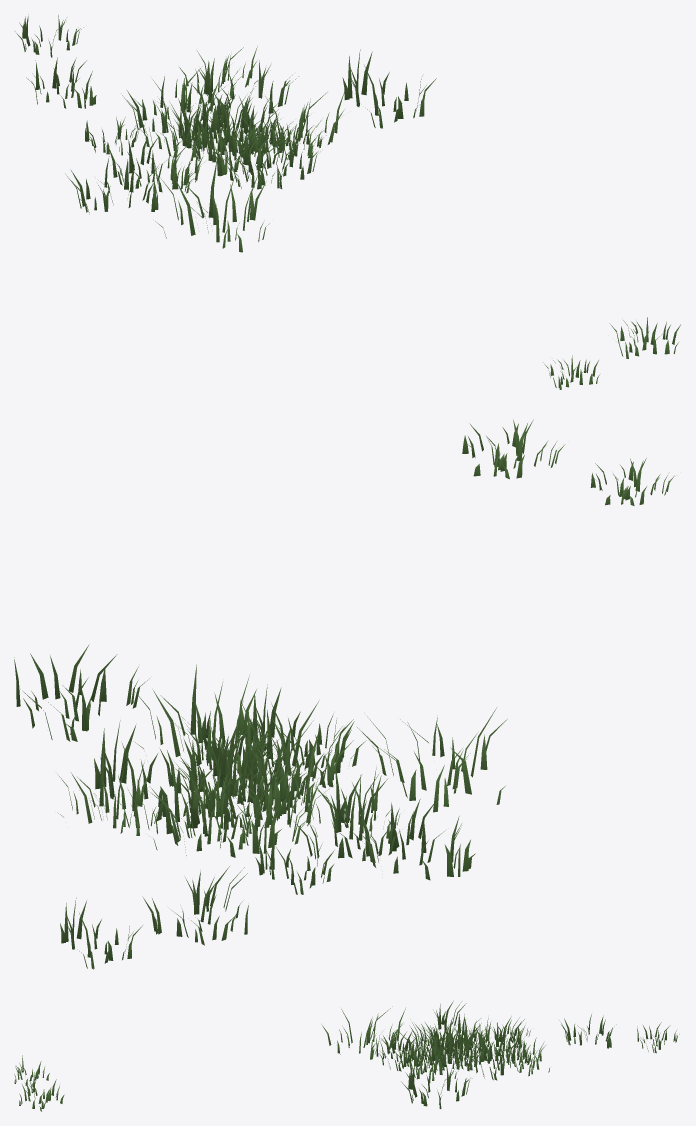
The model's file is P2N_forest_grass_-7_5.glb.
3 views of the same model, one above another, from view 1: azimuth 30°, elevation 25°; view 2: azimuth 150°, elevation 25°; view 3: azimuth 270°, elevation 25° (orthographic). The views are drawn at different scales.
Visible parts, largest first — view 1: P2N_forest_grass_-7_5; view 2: P2N_forest_grass_-7_5; view 3: P2N_forest_grass_-7_5.
Boxes of the visible parts, left/top/right/bottom form: P2N_forest_grass_-7_5: left=15, top=14, right=680, bottom=389; P2N_forest_grass_-7_5: left=14, top=419, right=674, bottom=969; P2N_forest_grass_-7_5: left=14, top=1001, right=679, bottom=1111.
Size of the model in its own units: 5.36 by 1.11 by 13.04.
